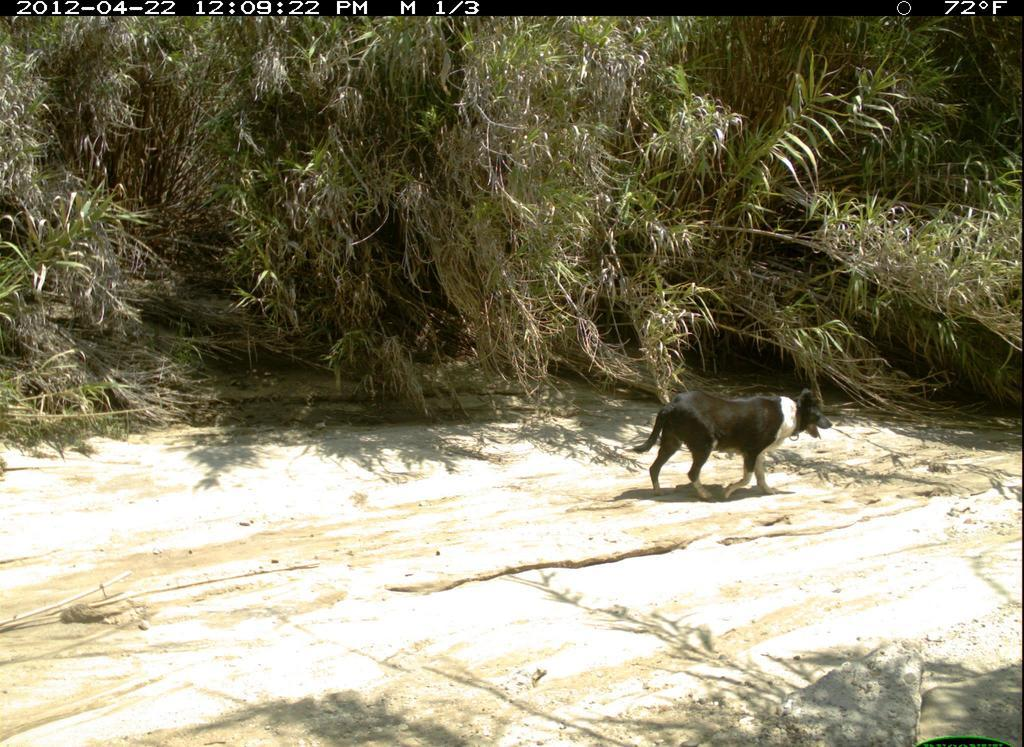dog: (637, 372, 833, 507)
